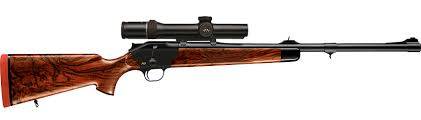gun: (1, 16, 421, 108)
